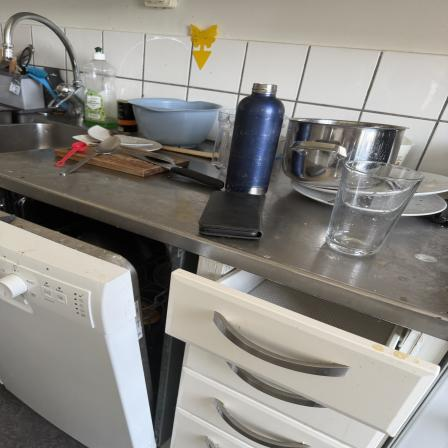blue_bottle: (231, 80, 281, 193)
phone: (203, 188, 268, 241)
